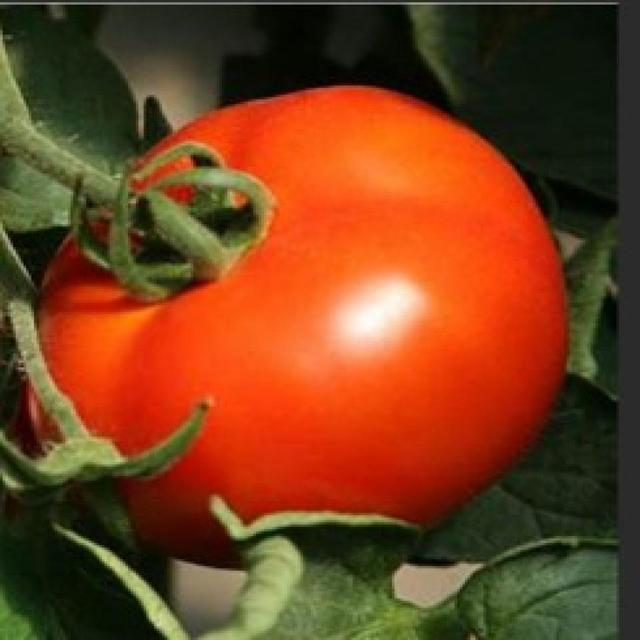Healthy Fruit: (24, 51, 367, 352)
